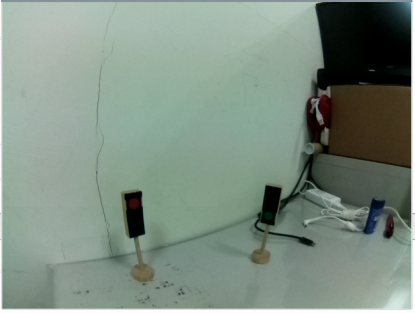Green: (256, 183, 282, 230)
Red: (119, 188, 149, 240)
